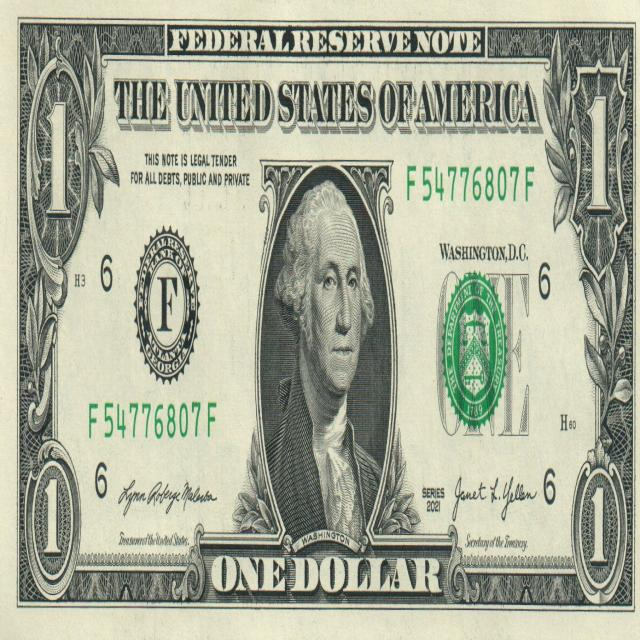SerialNumber: (89, 402, 216, 439), (407, 165, 534, 201)
